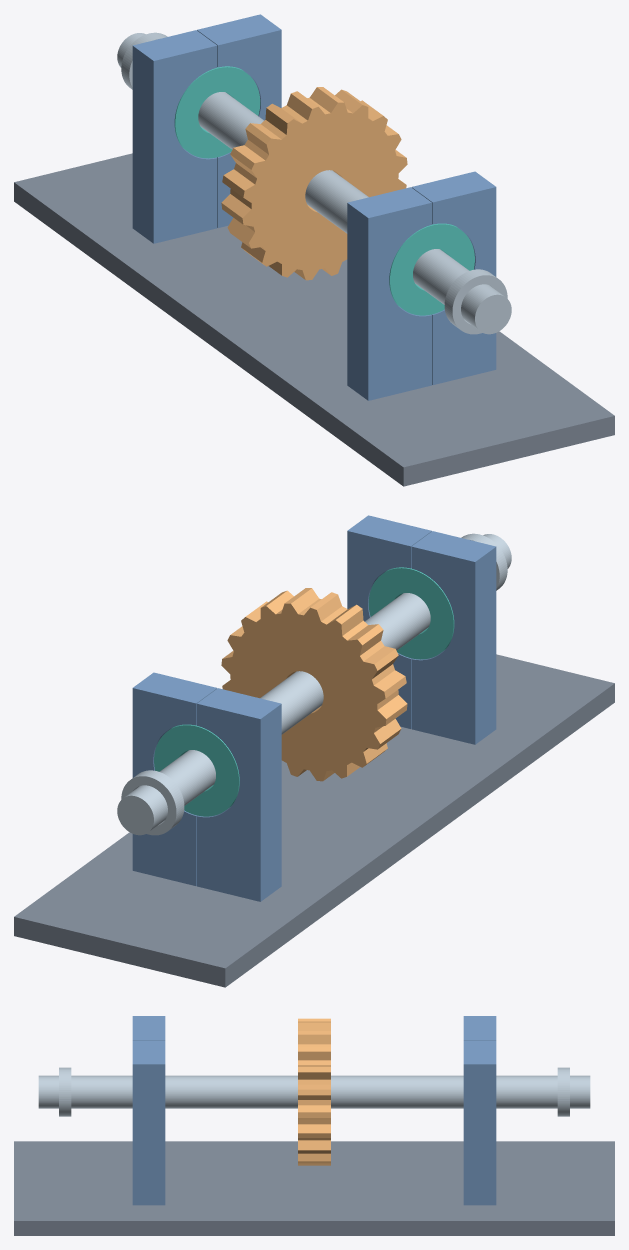
File: assembly.glb
The picture shows the model from 3 angles, top to bottom: view 1: azimuth 30°, elevation 25°; view 2: azimuth 150°, elevation 25°; view 3: azimuth 270°, elevation 25°; orthographic projection. The views are drawn at different scales.
Visible parts, largest first — view 1: base, gear, front_housing_left, rear_housing_left, shaft, rear_housing_right, front_housing_right, front_bearing, rear_bearing, rear_retainer; view 2: base, gear, rear_housing_left, front_housing_left, shaft, front_housing_right, rear_housing_right, rear_bearing, front_bearing, front_retainer; view 3: base, shaft, front_housing_right, rear_housing_right, gear, front_housing_left, rear_housing_left, front_retainer, rear_retainer.
Part boxes in pixels (x1,y1,x2,y2): base: (14,153,614,486); gear: (221,87,407,280); front_housing_left: (132,30,217,243); rear_housing_left: (347,187,431,400); shaft: (117,33,511,334); rear_housing_right: (411,171,496,384); front_housing_right: (197,14,281,227); front_bearing: (174,66,260,158); rear_bearing: (389,223,474,315); rear_retainer: (444,269,507,334); base: (14,654,614,987); gear: (221,588,407,781); rear_housing_left: (411,531,496,744); front_housing_left: (197,688,281,901); shaft: (117,534,511,835); front_housing_right: (132,672,217,885); rear_housing_right: (347,515,431,728); rear_bearing: (368,567,454,659); front_bearing: (154,724,239,816); front_retainer: (121,770,184,835); base: (14,1141,614,1235); shaft: (38,1075,590,1108); front_housing_right: (463,1040,496,1205); rear_housing_right: (132,1040,165,1205); gear: (298,1018,330,1165); front_housing_left: (463,1016,496,1040); rear_housing_left: (132,1016,165,1040); front_retainer: (557,1067,569,1116); rear_retainer: (59,1067,71,1116).
Size of the model in its own units: 0.0383 by 0.0382 by 0.1221.
